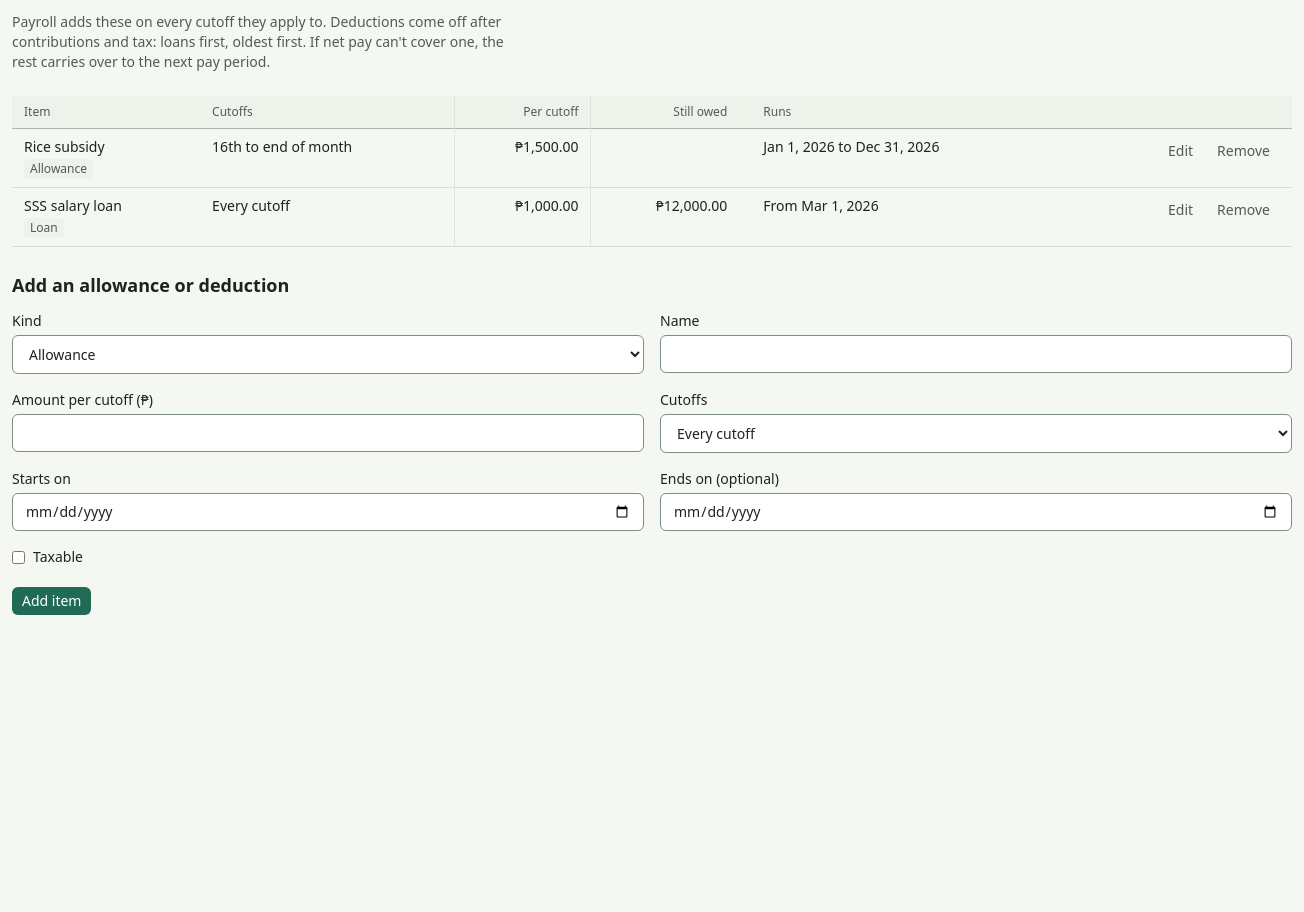
PayItemsTab › adds a loan with its balance
The width and height of the screenshot is (1304, 912).
Expected: the text "Rice subsidy" is shown, [24,137,105,156]
Expected: the field labelled "Still owed (₱)" is not shown
Select "Loan" in the dropdown labelled "Kind" at (328, 354), box [12,335,644,374]
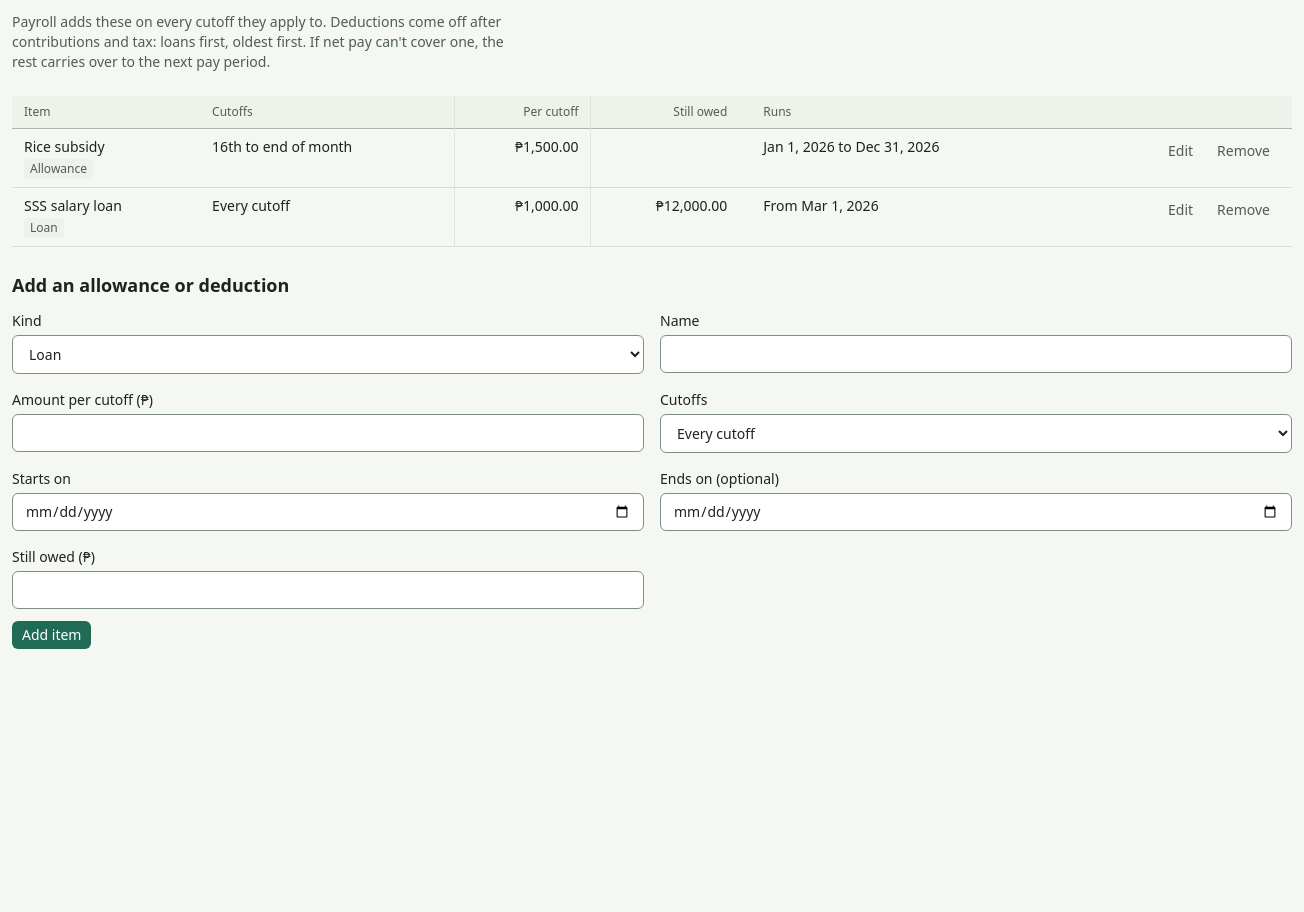
Expected: the label labelled "Taxable" is gone
Type "Company loan" into the field labelled "Name".
click(976, 354); type("Company loan")  # box [660,335,1292,373]
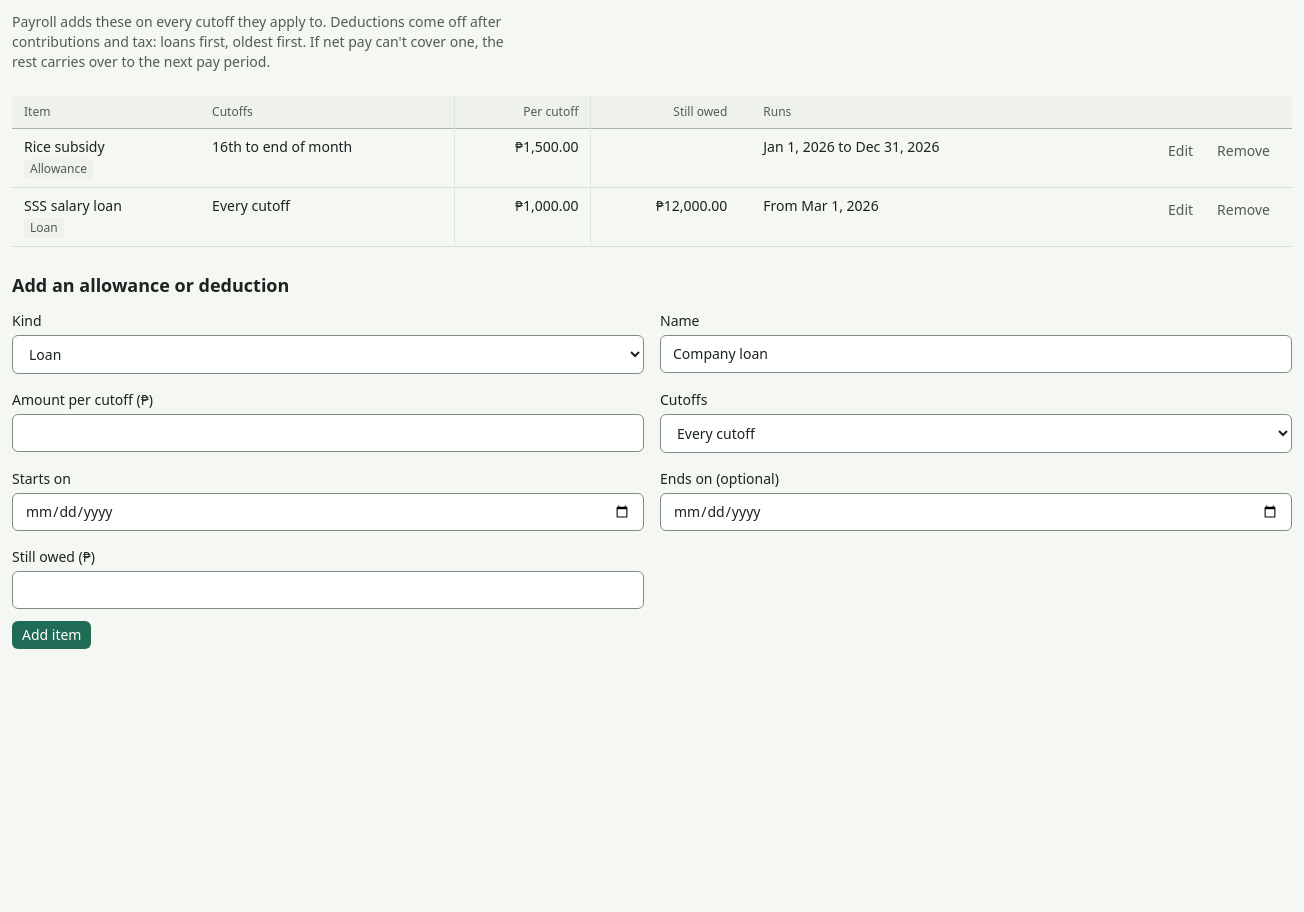
Type "2,000" into the field labelled "Amount per cutoff (₱)".
click(328, 433); type("2,000")  # box [12,414,644,452]
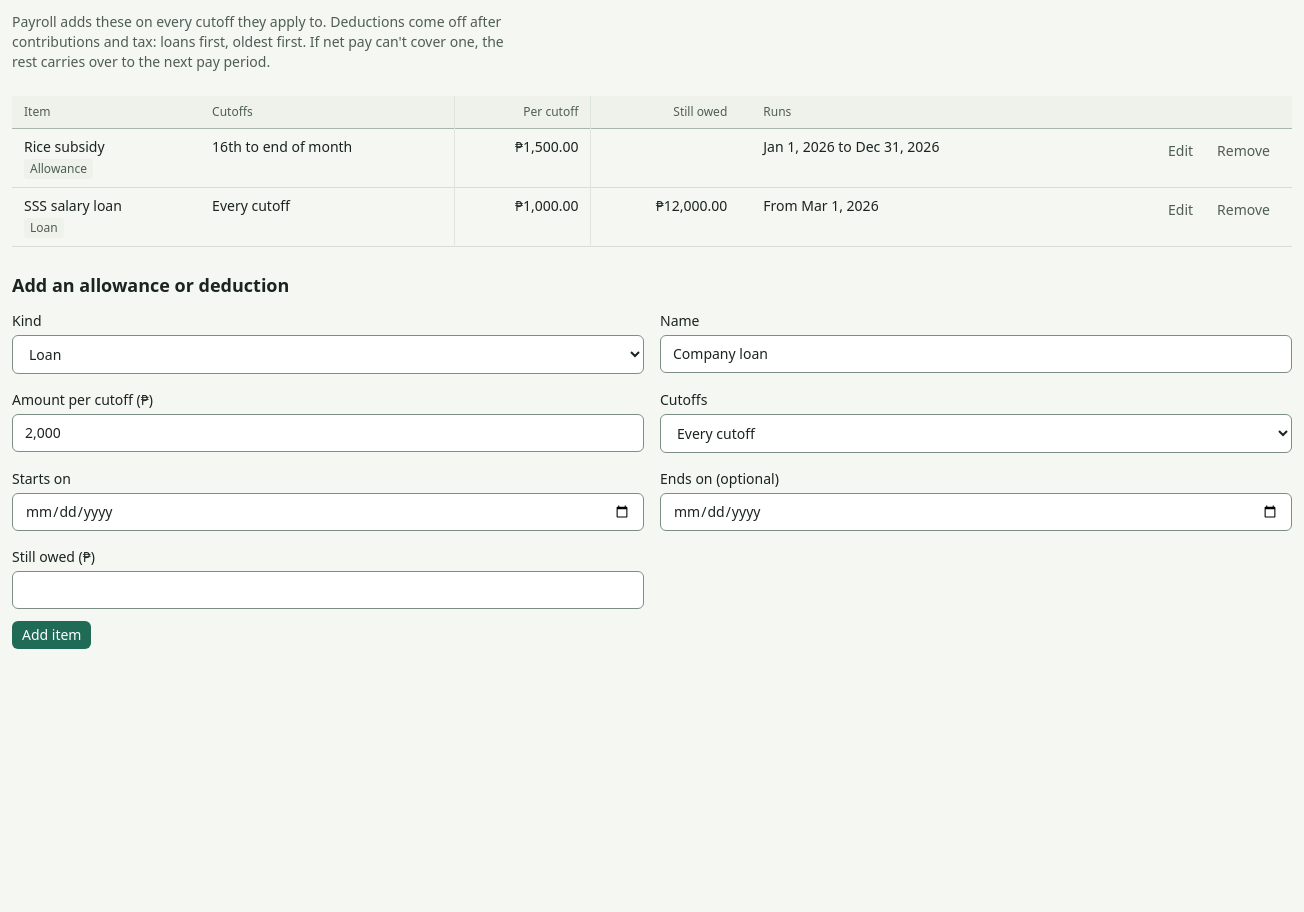
Type "2026-11-01" into the date field labelled "Starts on".
click(328, 512); type("2026-11-01")  # box [12,493,644,531]
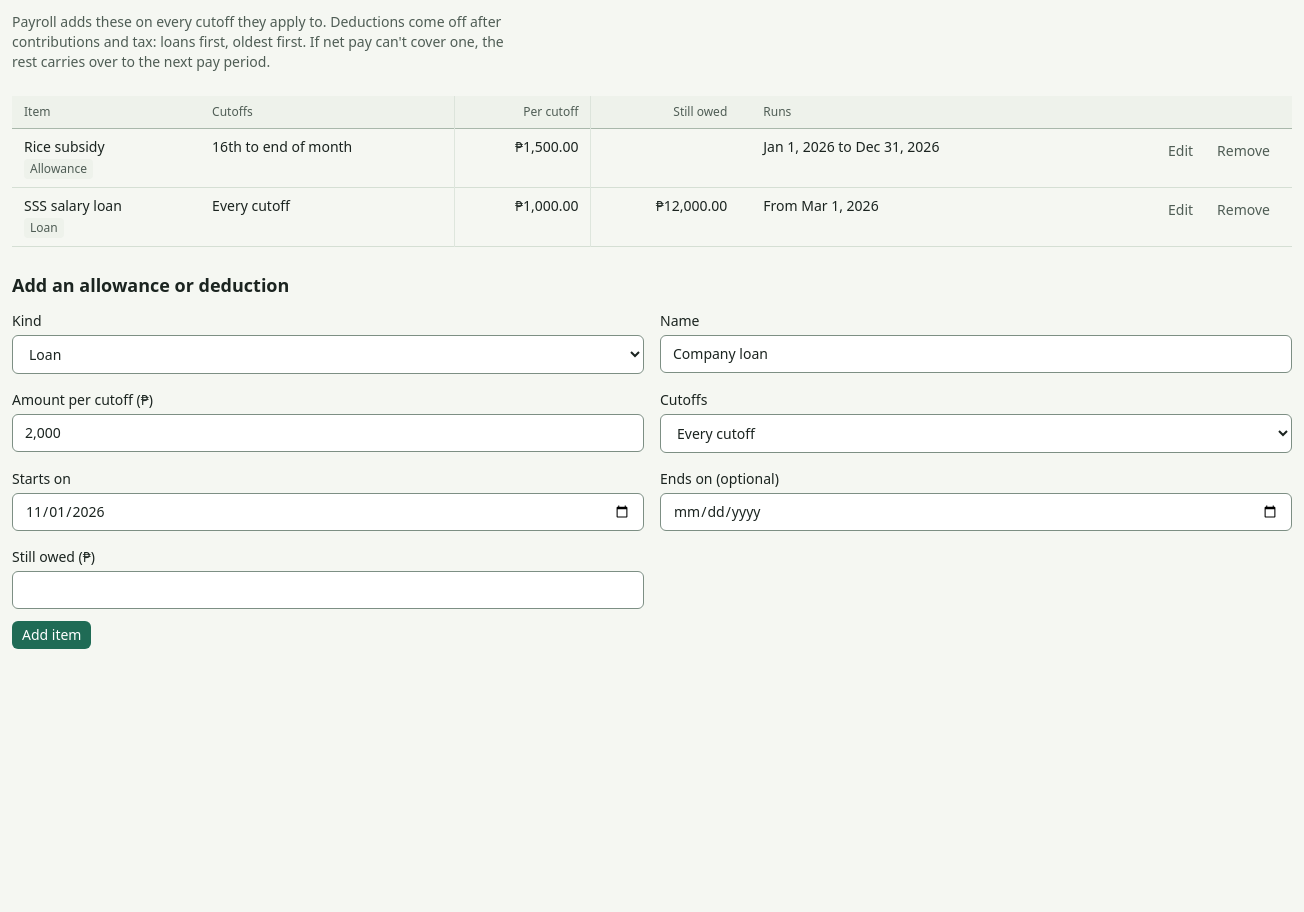
Type "24,000" into the field labelled "Still owed (₱)".
click(328, 590); type("24,000")  # box [12,571,644,609]
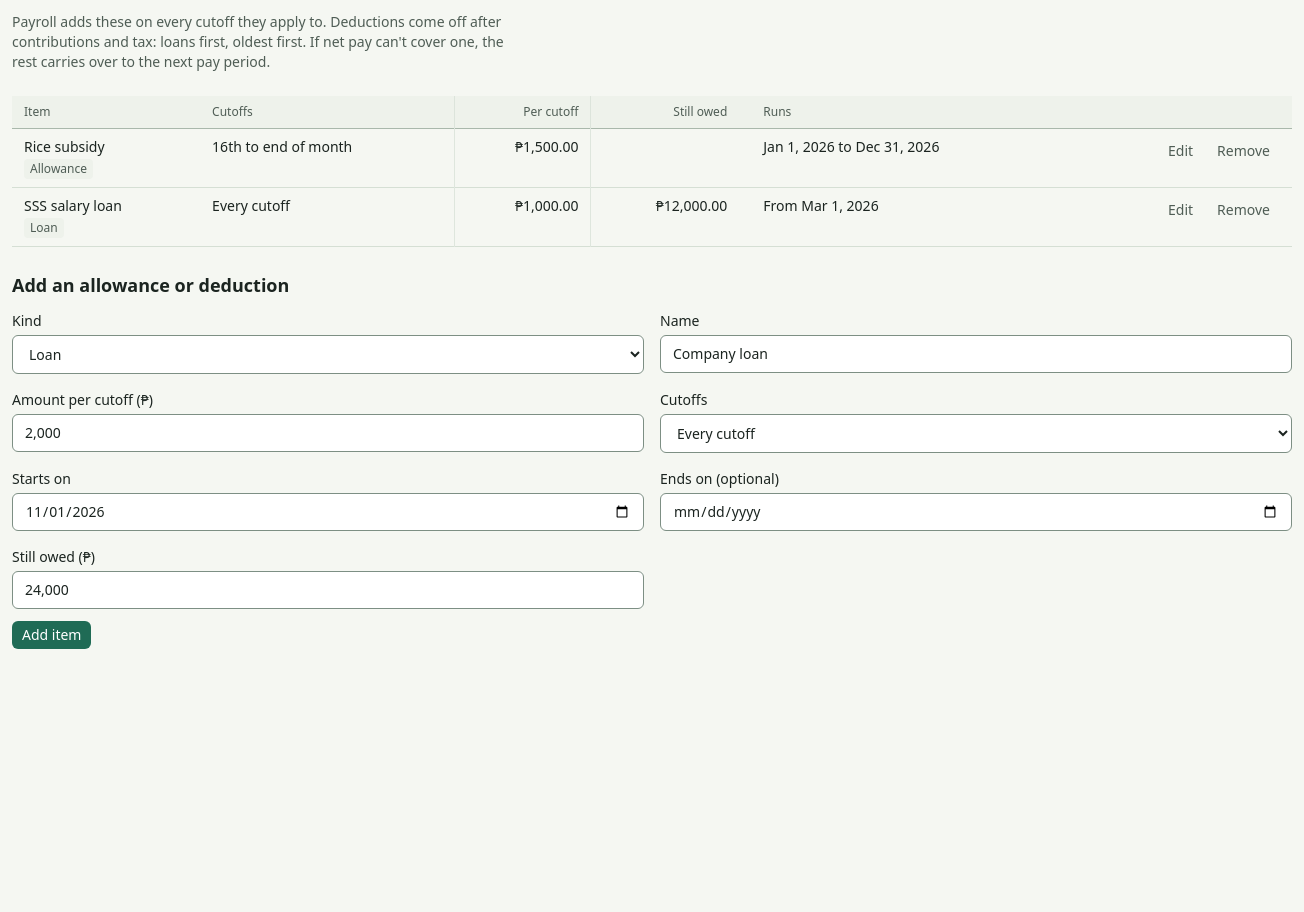
Click the button "Add item".
click(52, 635)  # box [12,621,92,649]
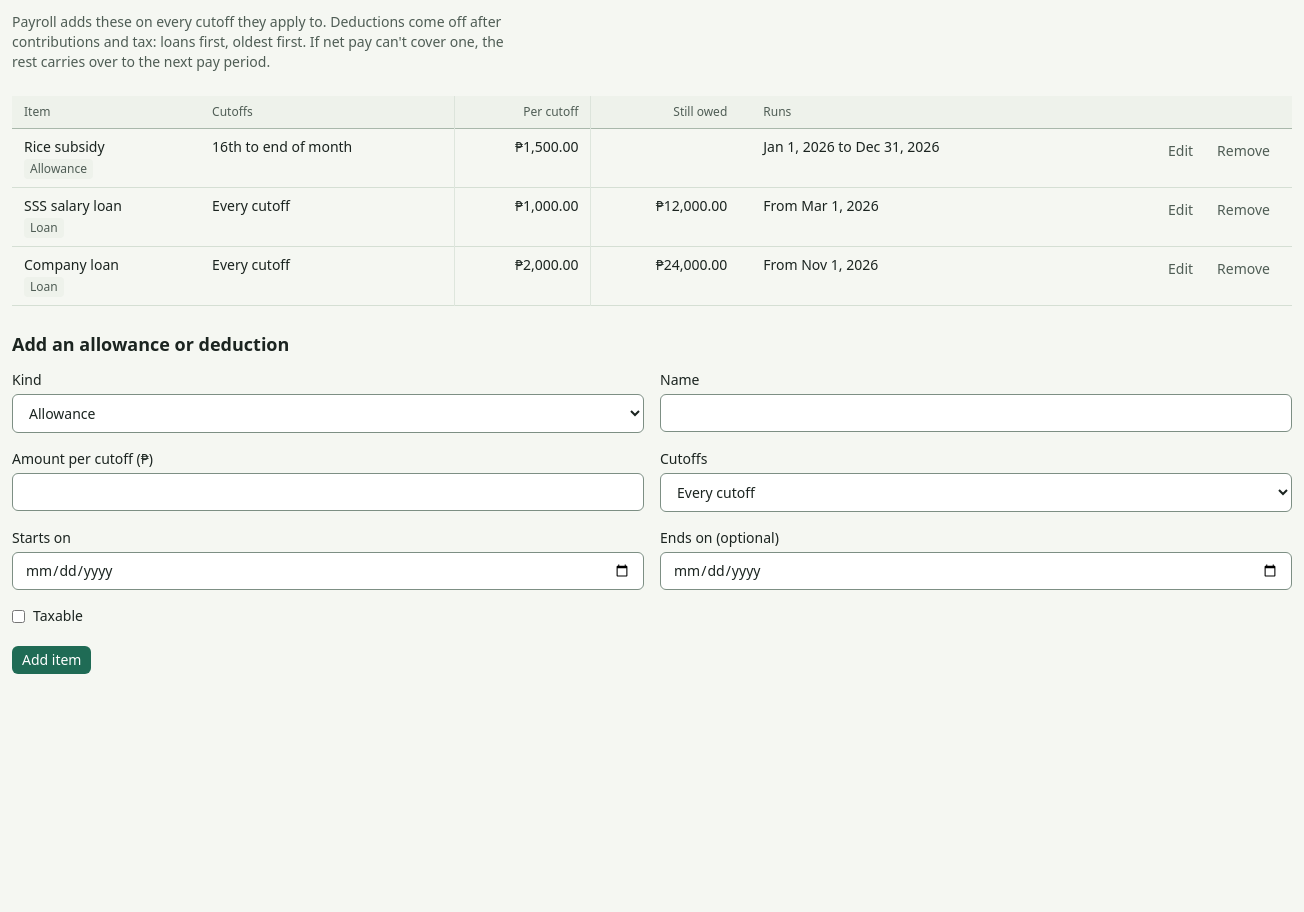
Expected: the text "Company loan" is shown, [24,255,119,274]
